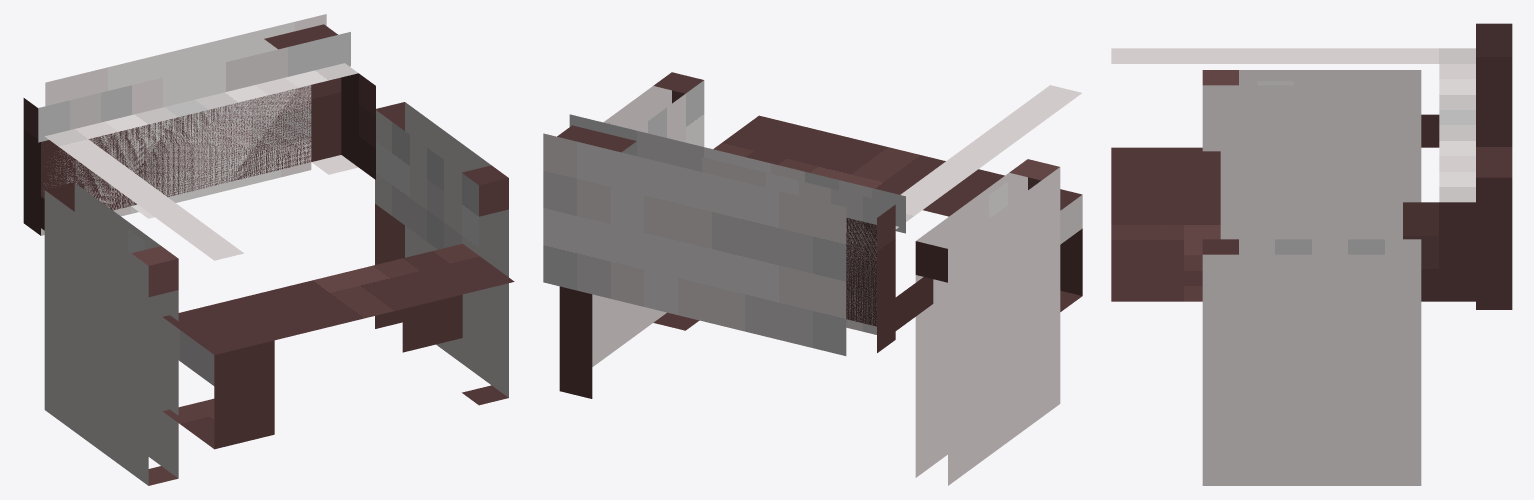
The model's file is shapka_v3.obj.
3 views of the same model, side by side, from view 1: azimuth 30°, elevation 25°; view 2: azimuth 150°, elevation 25°; view 3: azimuth 270°, elevation 25° (orthographic). The views are drawn at different scales.
Parts seen in each view (by area): view 1: cube; view 2: cube; view 3: cube.
Boxes of the visible parts, x1,y1,x2,y2 form: cube: [23, 14, 514, 485]; cube: [543, 72, 1082, 485]; cube: [1111, 23, 1512, 485].
Bounding box in the file's own units: 0.75 × 0.5594 × 0.7.
